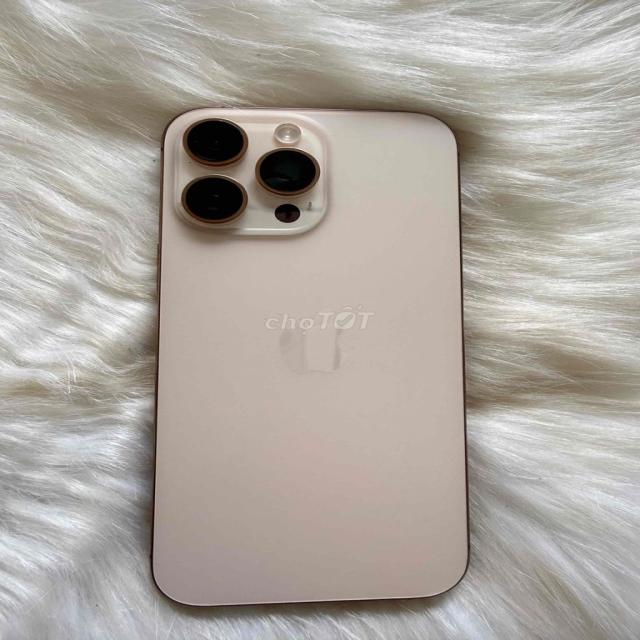gen_16: (152, 108, 468, 606)
